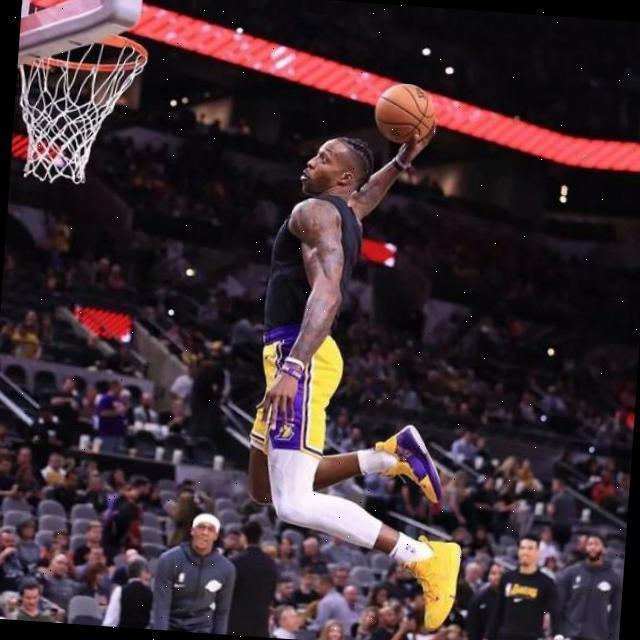ball: (372, 81, 436, 148)
hoop: (29, 35, 153, 76)
